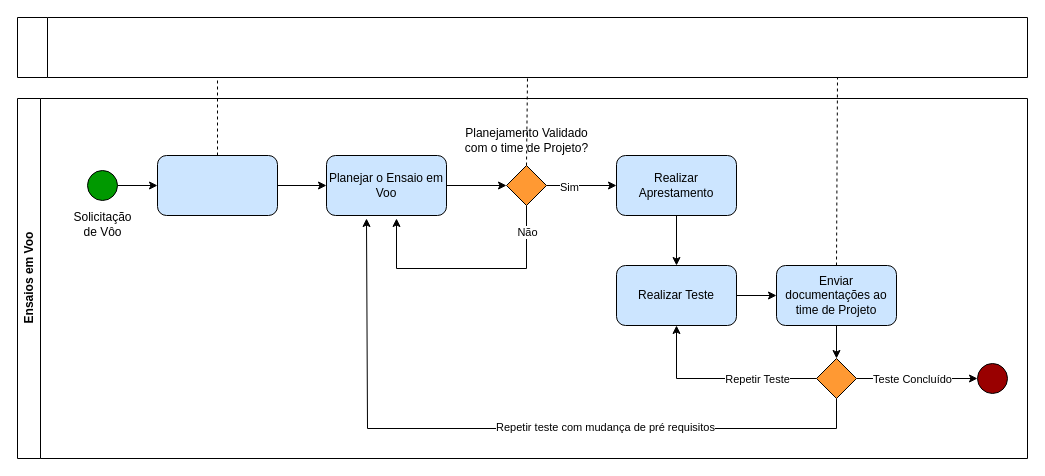
The diagram is 1045 pixels wide and 476 high, and some of its shapes have lost their labels. Here are the shapes that lost their labels. From the top down, the centre of each, then its label:
point 522,47: Time de Projetos
point 217,185: Receber os Pré requisitos do Ensaio
